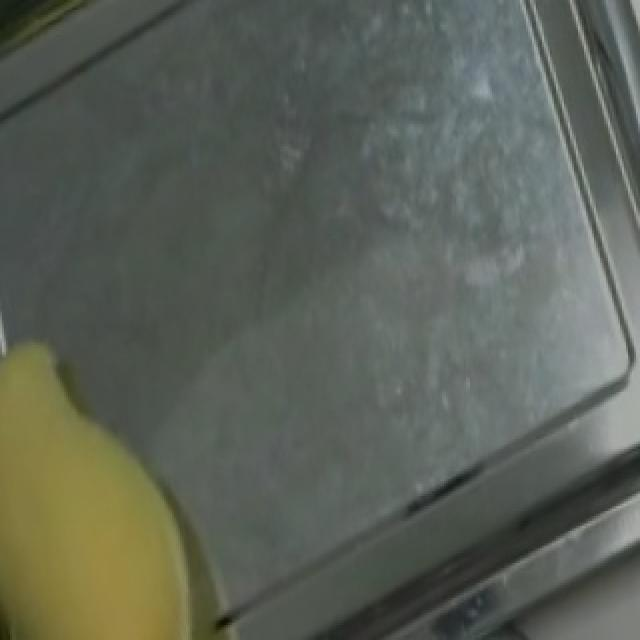fruit: (0, 320, 268, 640)
